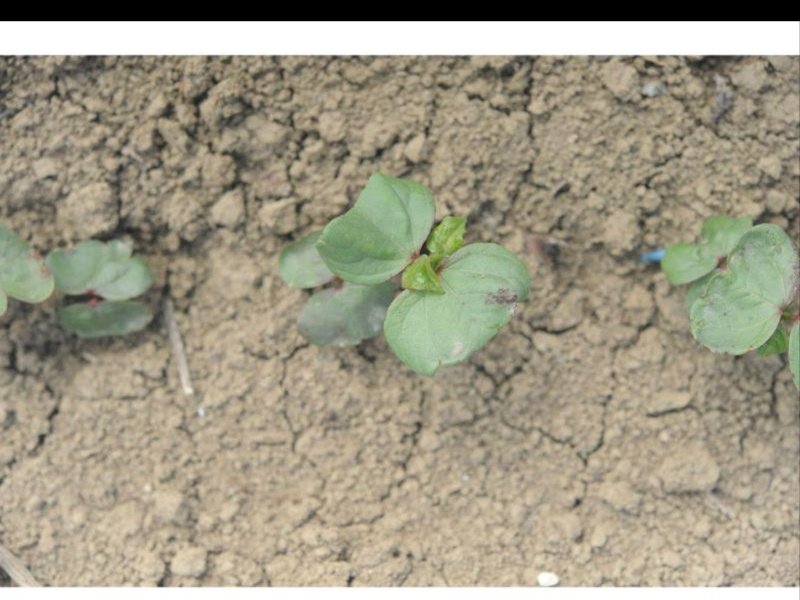cotton: (277, 171, 531, 374), (662, 213, 799, 380), (0, 219, 151, 338)
